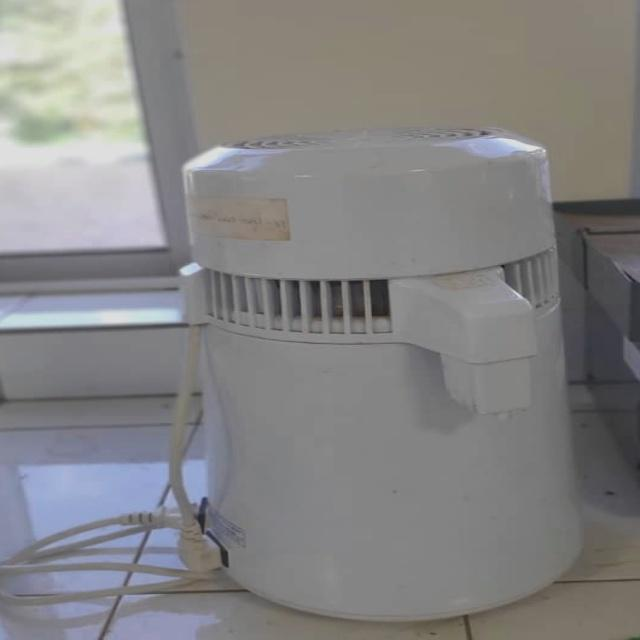Distilled Water Maker: (149, 116, 586, 626)
